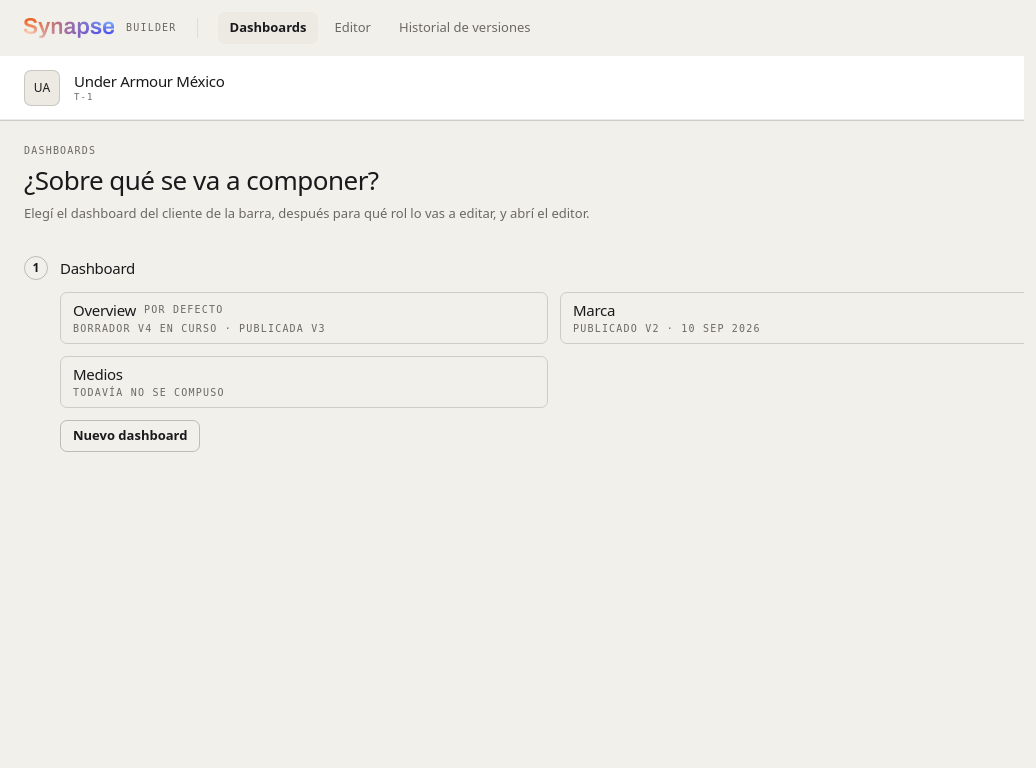
it: §7.2 · los roles · paso 2 › sin roles definidos manda a la ficha de cliente
Click the button "Overview Por defecto Borrador v4 en curso · publicada v3": (105,310) [60,292,548,344]
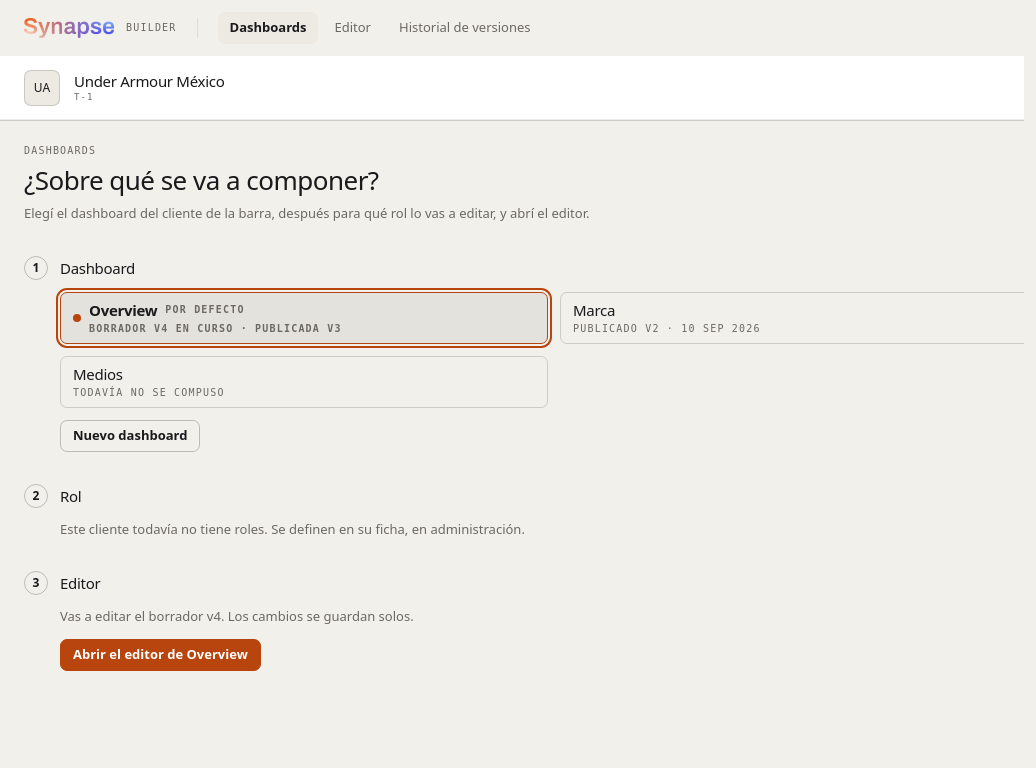
Expected: the text "Este cliente todavía no tiene roles. Se definen en su ficha, en administración." is shown, [60,520,525,538]
